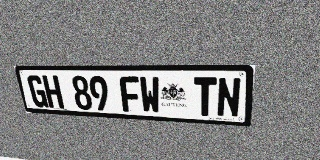8: (71, 76, 93, 110)
9: (88, 76, 110, 111)
F: (119, 76, 141, 113)
G: (26, 75, 49, 108)
H: (42, 75, 64, 108)
N: (217, 77, 241, 118)
T: (194, 77, 217, 117)
W: (139, 76, 161, 114)
